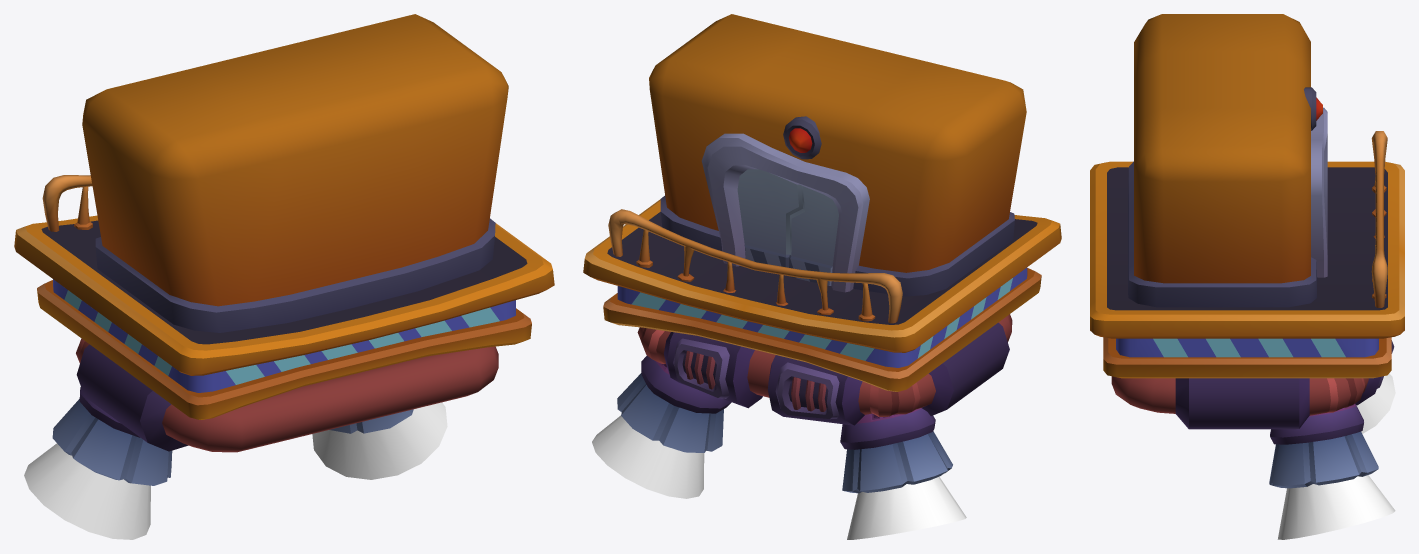
File: SM_Camera_Room_04.fbx
3 views of the same model, side by side, from view 1: azimuth 30°, elevation 25°; view 2: azimuth 150°, elevation 25°; view 3: azimuth 270°, elevation 25° (orthographic). The views are drawn at different scales.
Visible parts, largest first — view 1: SM_Camera_Room_04; view 2: SM_Camera_Room_04; view 3: SM_Camera_Room_04.
Part boxes in pixels (bbox=[...]): SM_Camera_Room_04: bbox=[14, 14, 554, 539]; SM_Camera_Room_04: bbox=[583, 14, 1061, 539]; SM_Camera_Room_04: bbox=[1090, 14, 1404, 539].
Size of the model in its own units: 8.92 by 9.72 by 6.87.
